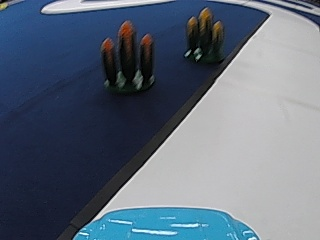corn: (100, 19, 156, 96), (183, 7, 224, 65)
